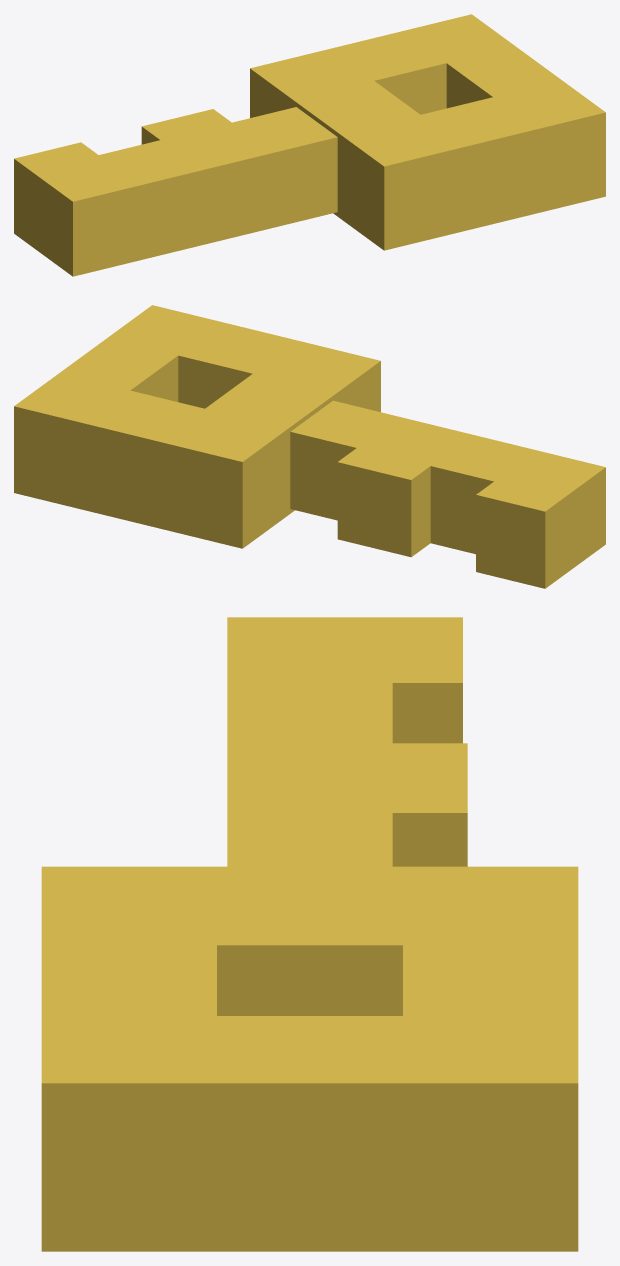
Rendered from Key Poland_Dorf.fbx.
The picture shows the model from 3 angles, top to bottom: view 1: azimuth 30°, elevation 25°; view 2: azimuth 150°, elevation 25°; view 3: azimuth 270°, elevation 25°; orthographic projection. The views are drawn at different scales.
Parts seen in each view (by area): view 1: Cube.001; view 2: Cube.001; view 3: Cube.001.
Boxes of the visible parts, <box> form: Cube.001: <box>14,14,605,276</box>; Cube.001: <box>14,305,605,588</box>; Cube.001: <box>41,617,578,1251</box>.
Bounding box in the file's own units: 1.65 × 0.2734 × 0.7904.
